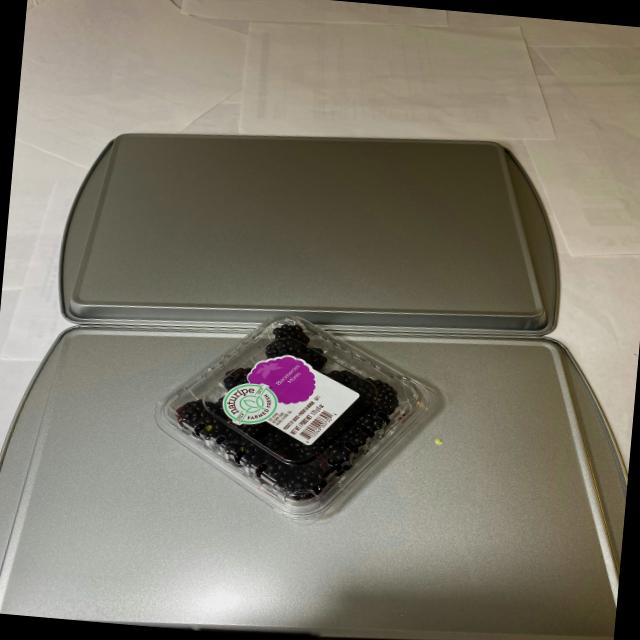blackberries: (172, 300, 426, 510)
